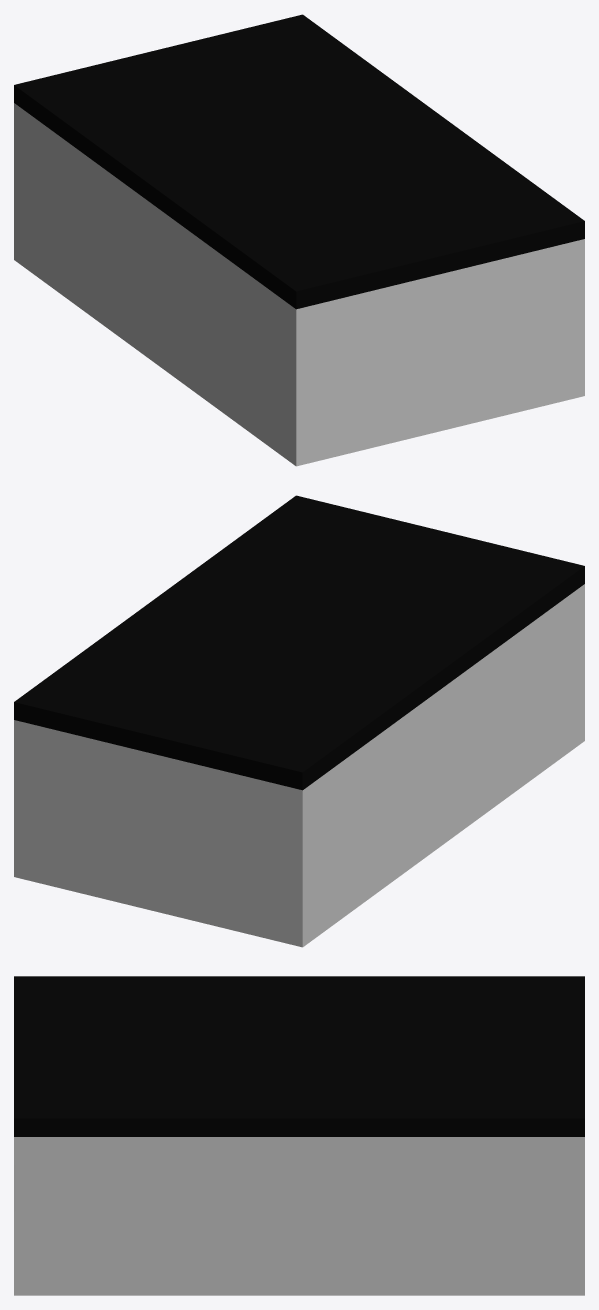
Rendered from objs_.gltf.
3 renders of one model, top to bottom at view 1: azimuth 30°, elevation 25°; view 2: azimuth 150°, elevation 25°; view 3: azimuth 270°, elevation 25°, orthographic.
Parts seen in each view (by area): view 1: roof, background; view 2: roof, background; view 3: roof, background.
Part boxes in pixels (<box>): roof: <box>14,14,584,309</box>; background: <box>14,103,584,466</box>; roof: <box>14,495,584,790</box>; background: <box>14,584,584,947</box>; roof: <box>14,976,584,1136</box>; background: <box>14,1137,584,1295</box>.
Bounding box in the file's own units: 6 × 3.47 × 10.16.
